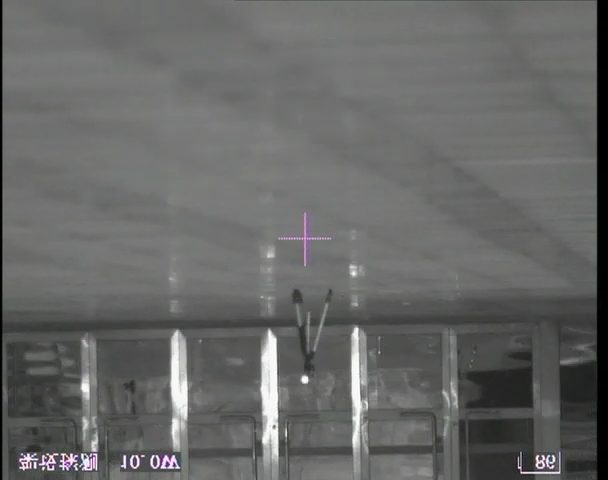my: (299, 374, 310, 385)
